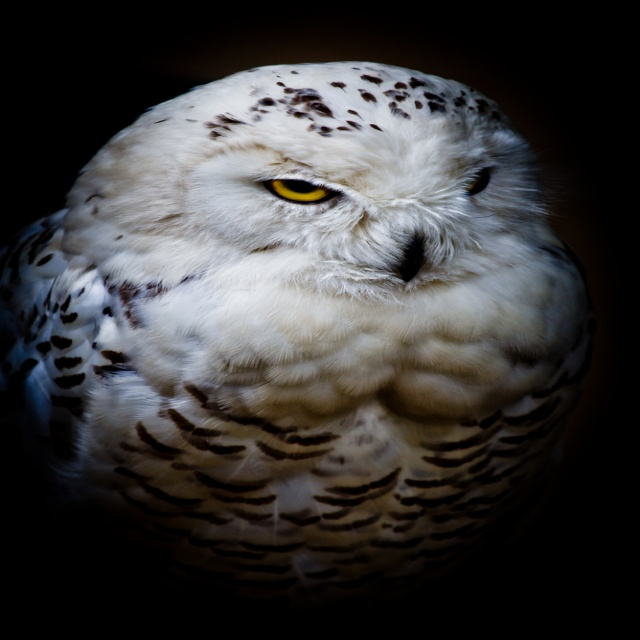Owl: (12, 57, 587, 586)
